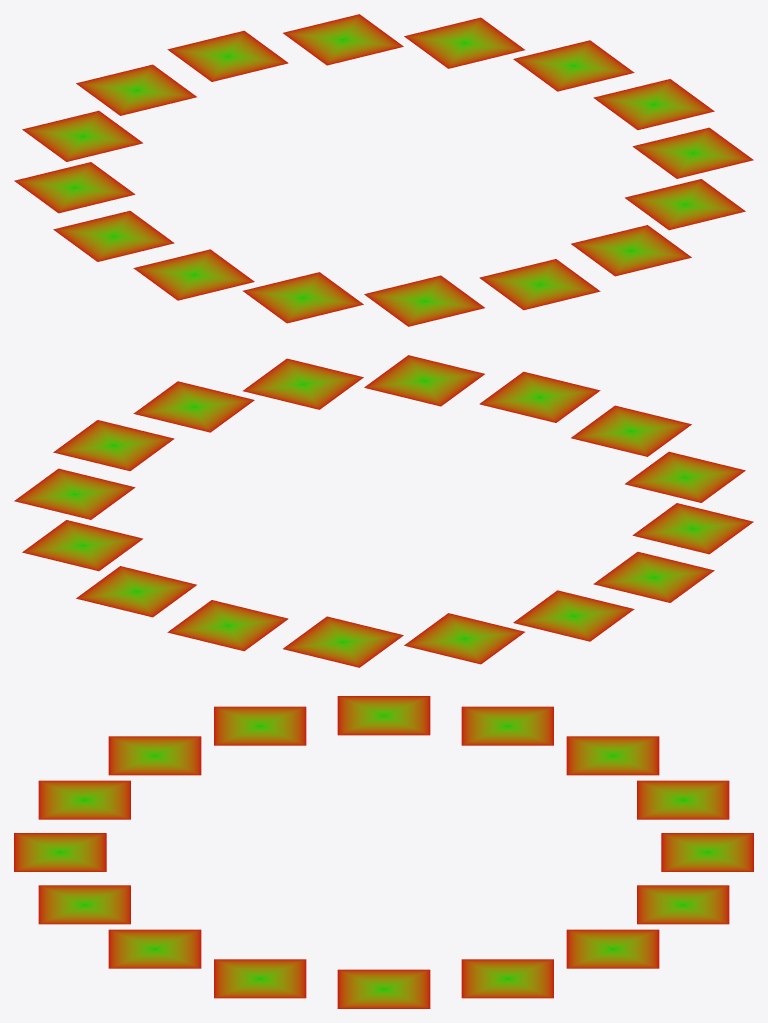
The model's file is PerlBracelet.fbx.
3 renders of one model, top to bottom at view 1: azimuth 30°, elevation 25°; view 2: azimuth 150°, elevation 25°; view 3: azimuth 270°, elevation 25°, orthographic. The views are drawn at different scales.
Parts seen in each view (by area): view 1: 平面.016; view 2: 平面.016; view 3: 平面.016.
Boxes of the visible parts, <box> form: 平面.016: <box>14,14,753,326</box>; 平面.016: <box>14,355,753,667</box>; 平面.016: <box>14,696,753,1008</box>.
Size of the model in its own units: 160 by 2.61e-05 by 160.
